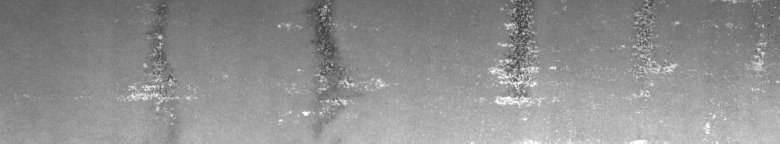hc: (264, 4, 388, 125)
